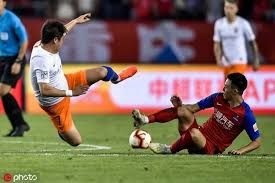falling: (22, 9, 142, 150)
